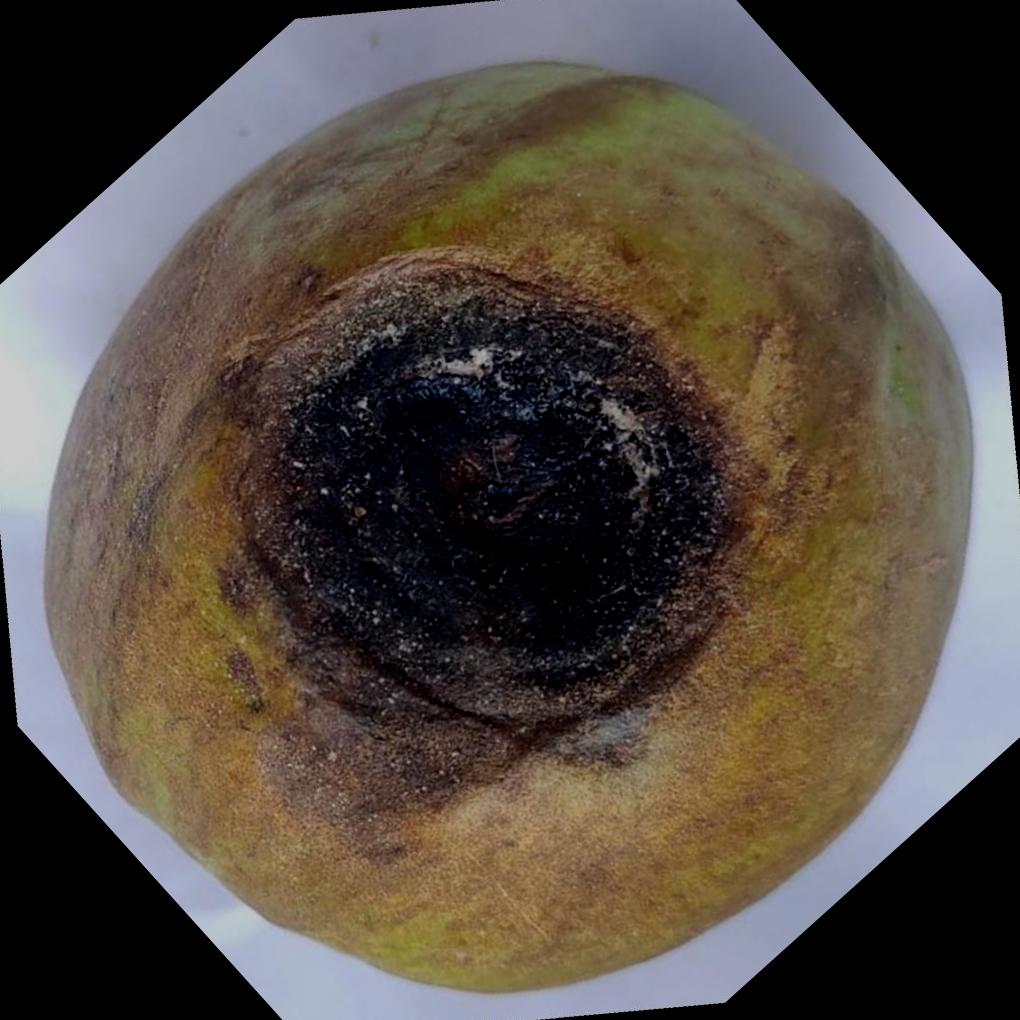FreshOrange: (43, 54, 980, 992)
